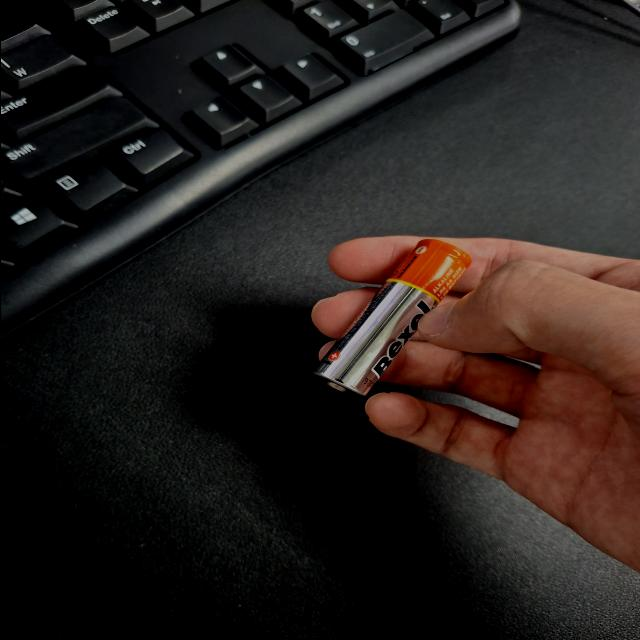AA: (113, 235, 321, 352)
